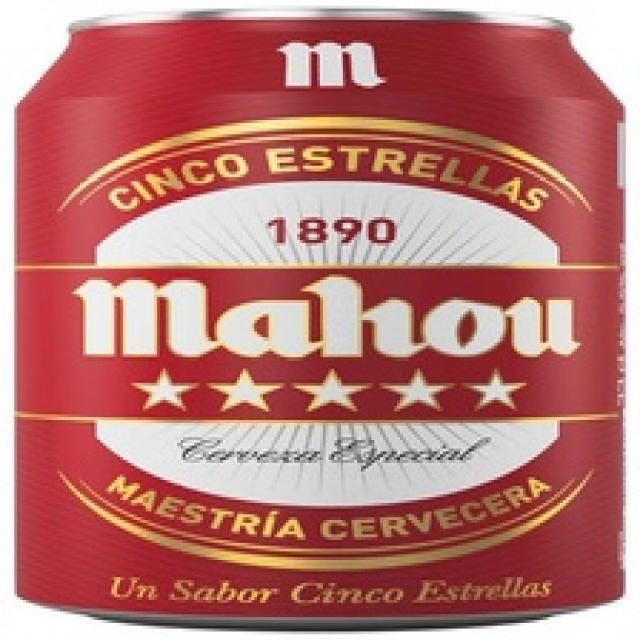recyclable: (14, 7, 626, 631)
